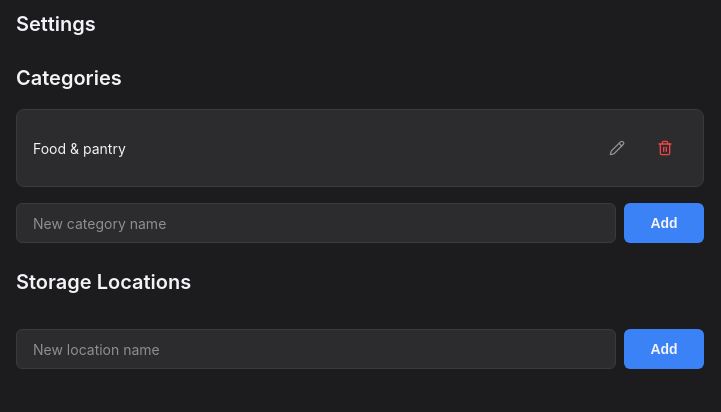
Scenario: T5: adding duplicate category shows "That name is already taken."
Expected: the text "Food & pantry" is shown, [33,140,126,156]
Try to add a category that already exists
Type "Food & pantry" into the field with placeholder "New category name" at (316, 223), box [16,203,616,243]
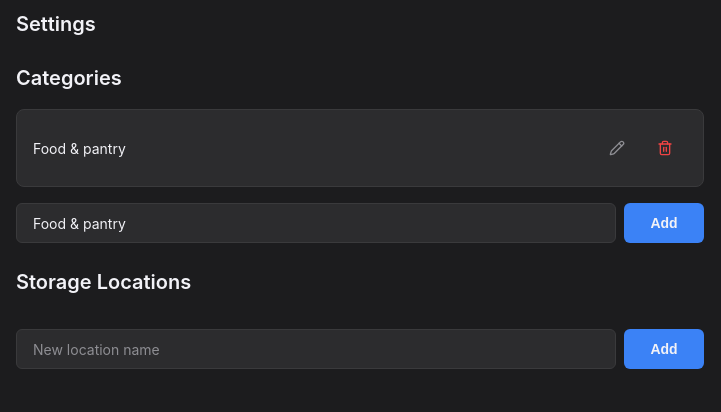
Click the 1st button "Add" at (664, 223), box [624,203,704,243]
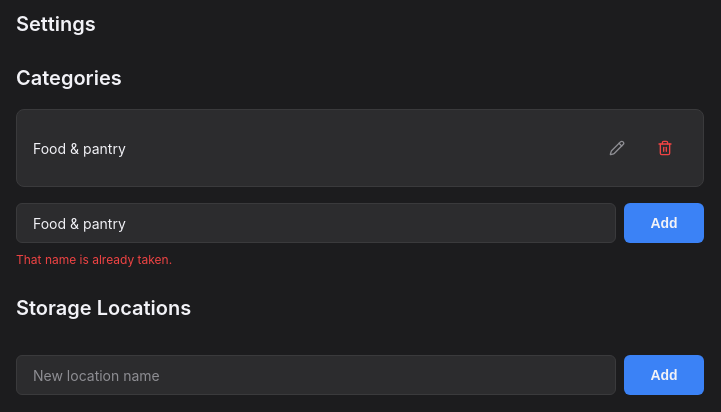
Result: the text "That name is already taken." is shown at [16,252,172,267]
